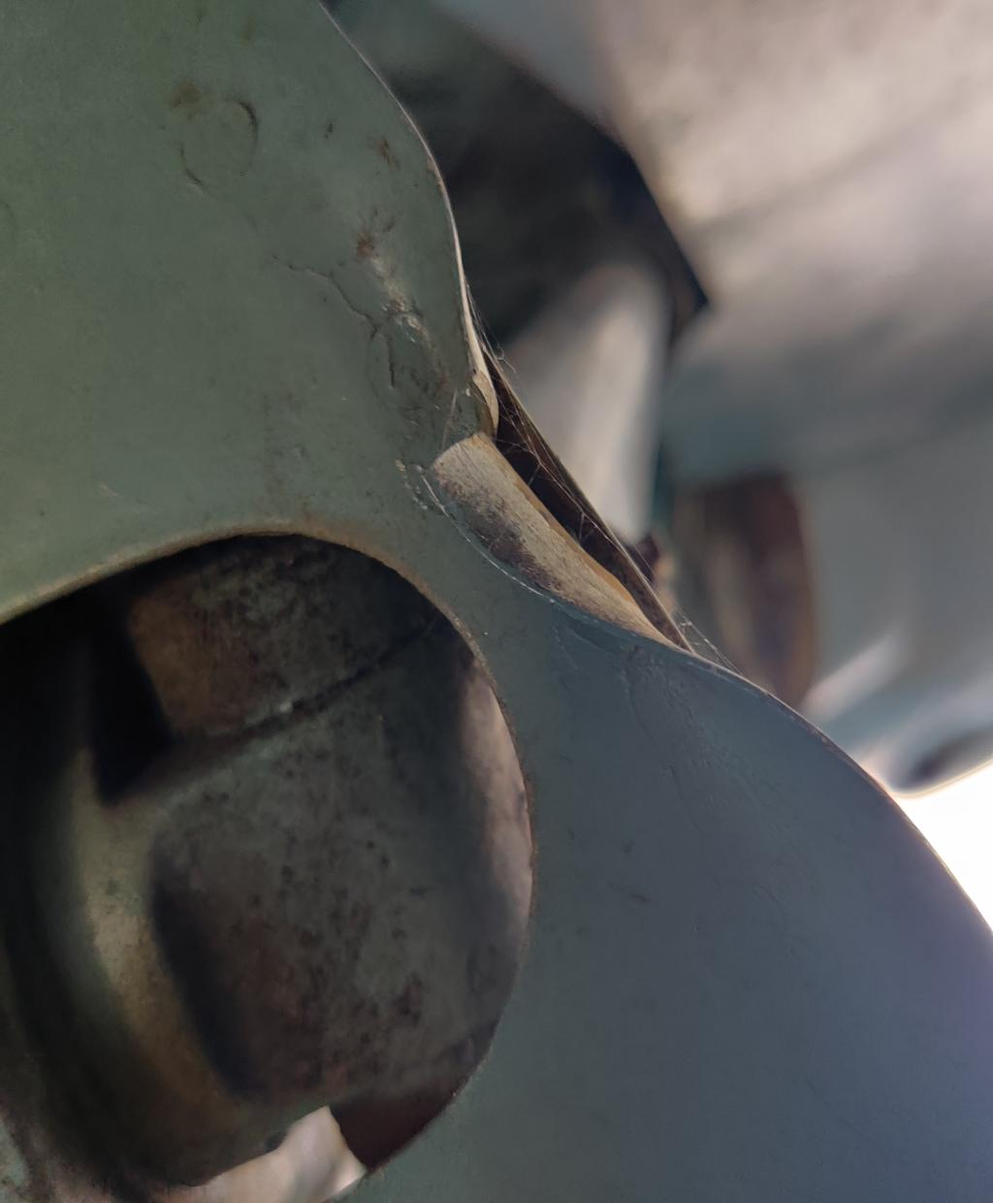crack: (401, 381, 526, 513)
